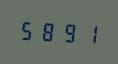eight: (38, 18, 57, 43)
five: (18, 17, 37, 42)
nine: (58, 20, 77, 44)
one: (78, 21, 97, 46)
